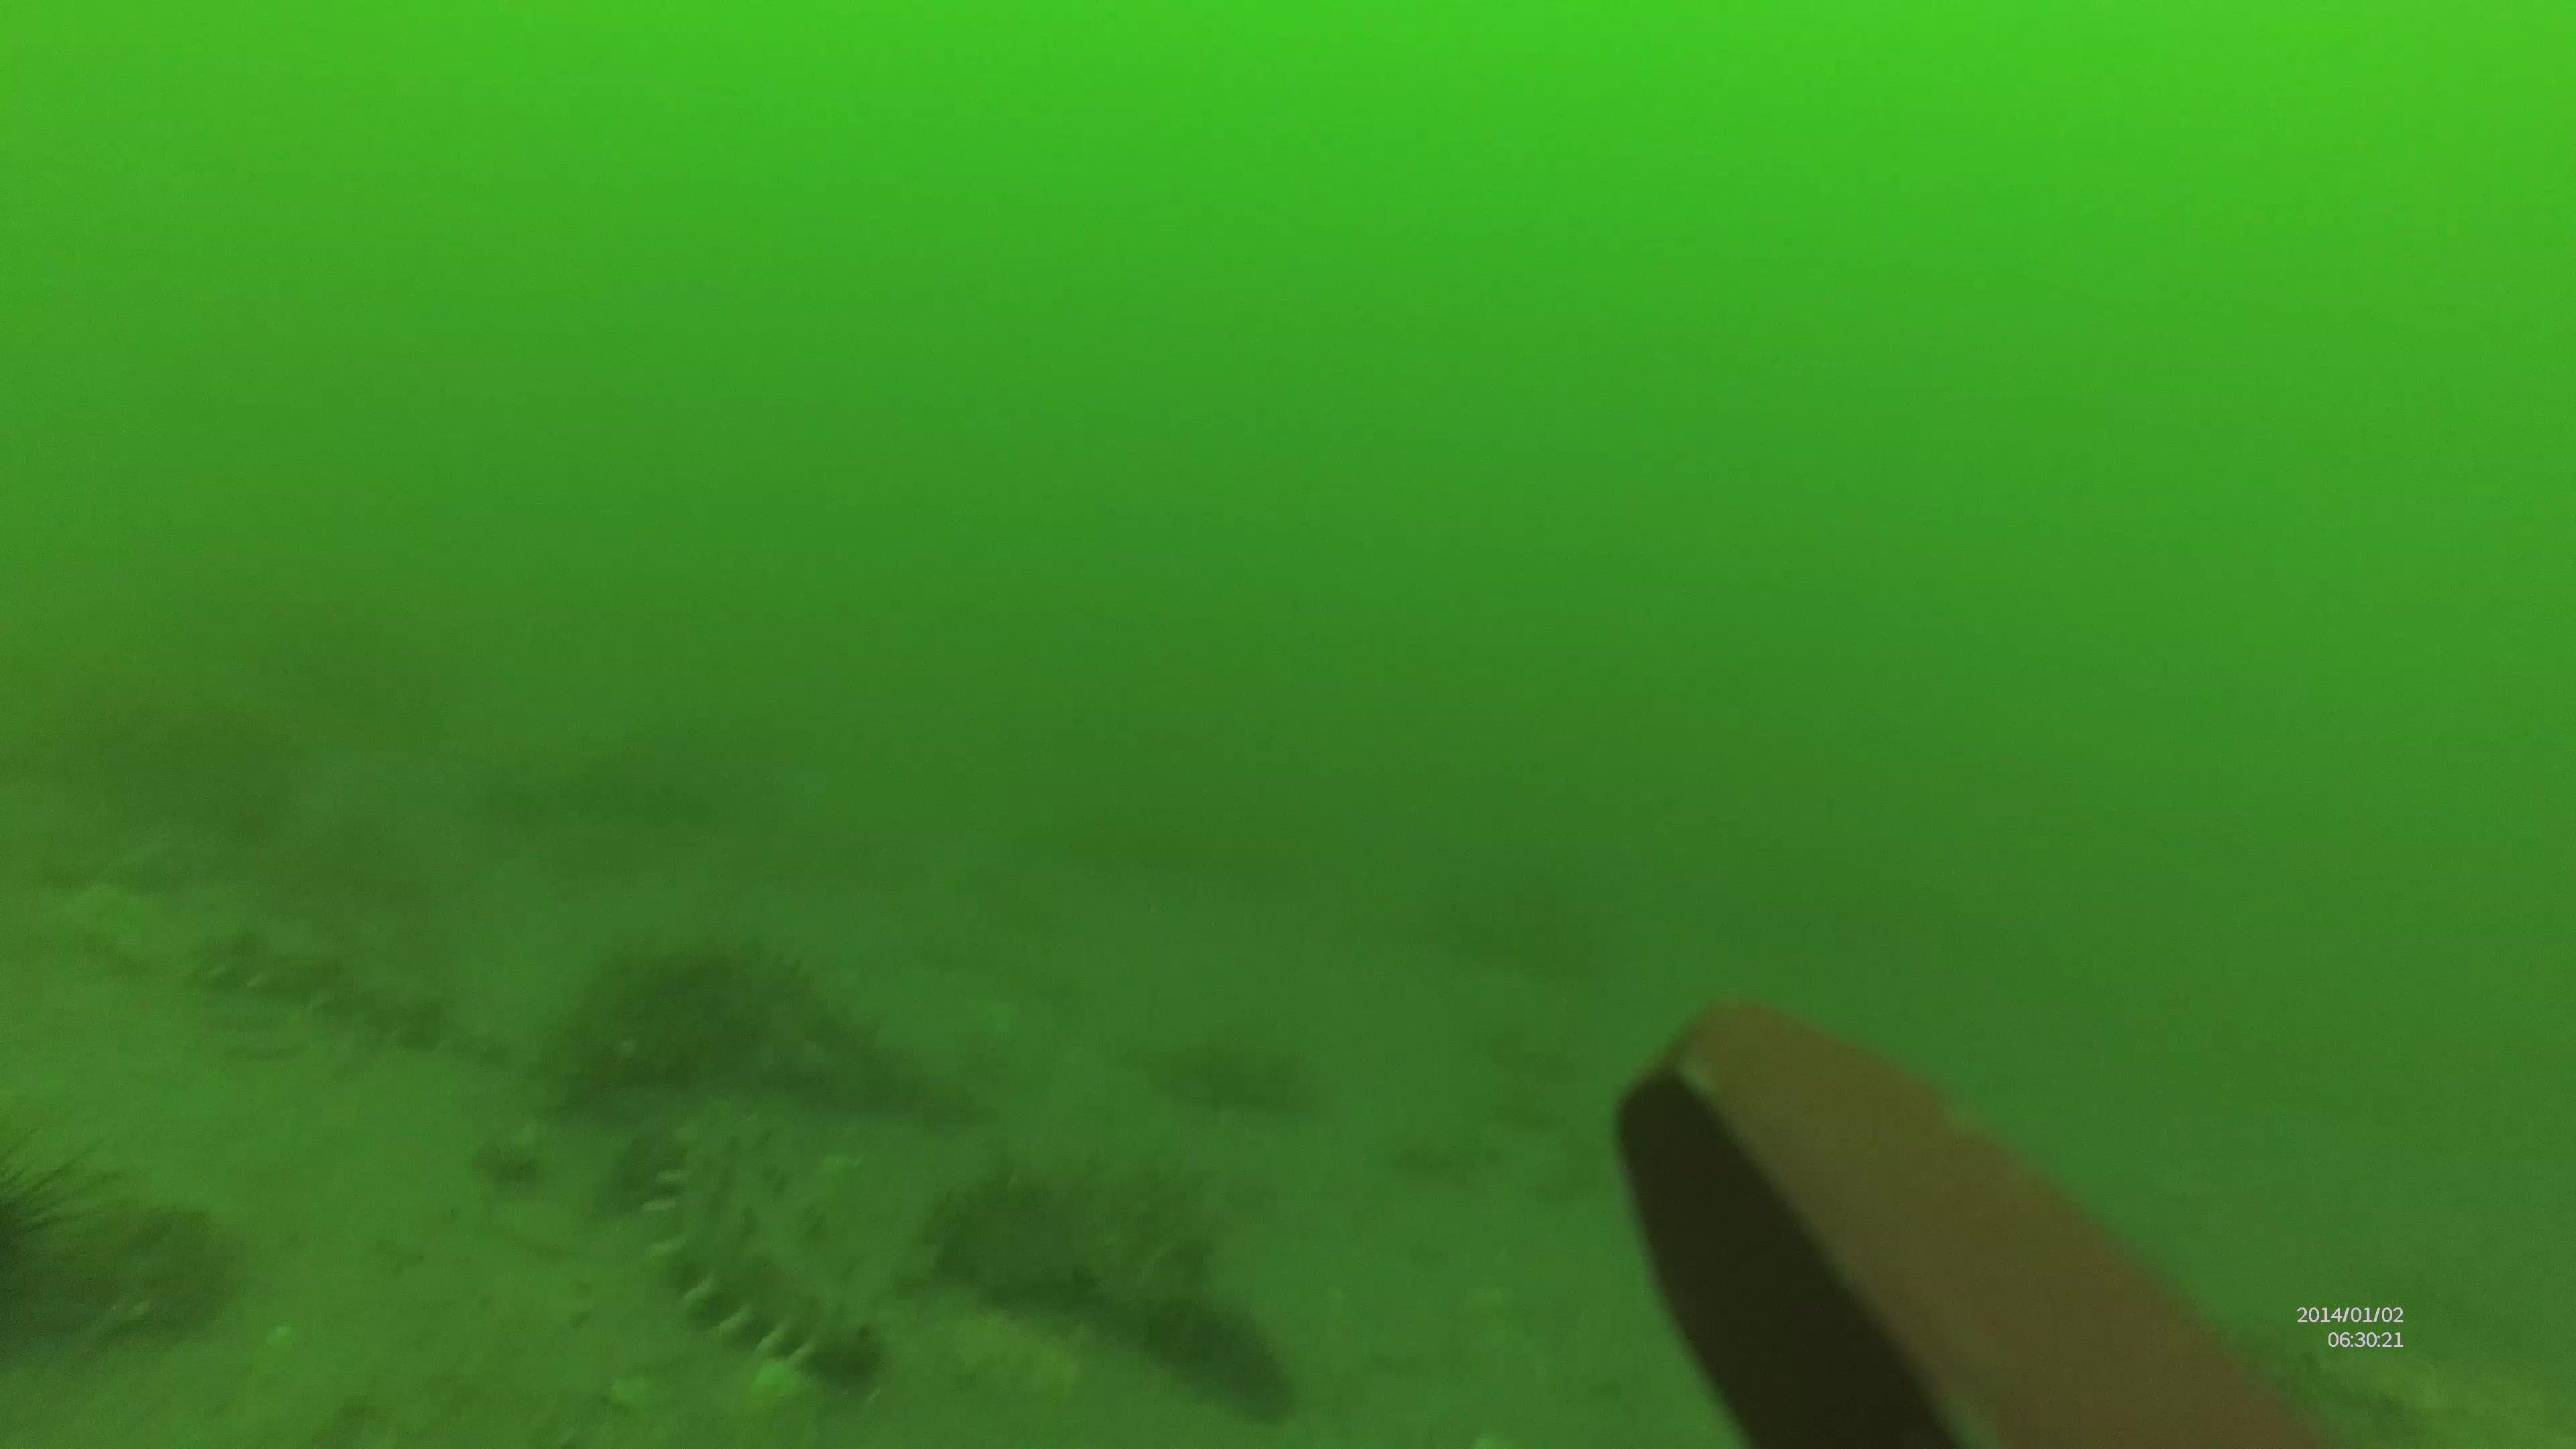echinus: (5, 1099, 124, 1369)
holothurian: (644, 1109, 886, 1385), (175, 899, 453, 1054)
